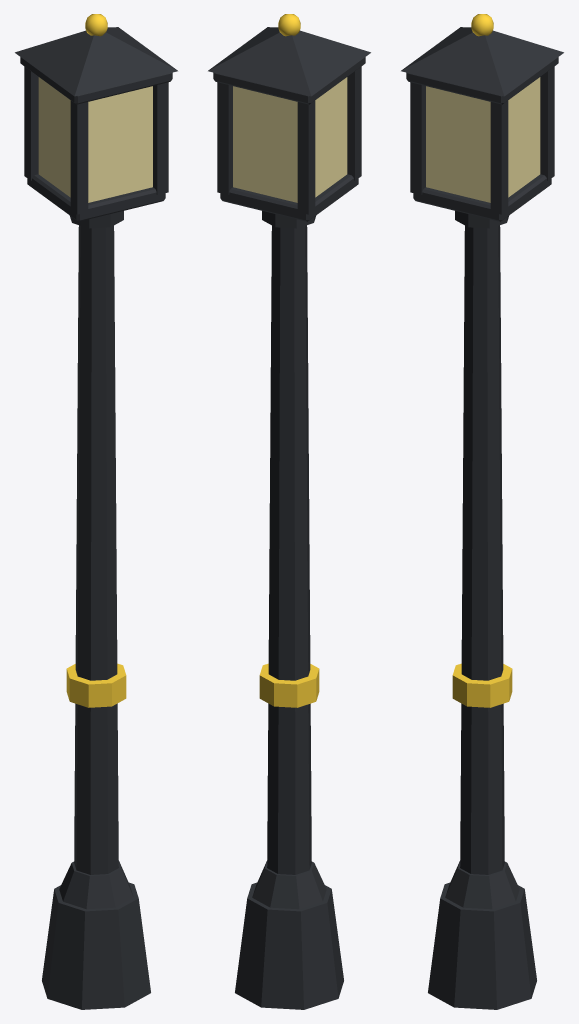
File: plaza_lamp.glb
3 views of the same model, side by side, from view 1: azimuth 30°, elevation 25°; view 2: azimuth 150°, elevation 25°; view 3: azimuth 330°, elevation 25° (orthographic).
Parts seen in each view (by area): view 1: LOD0; view 2: LOD0; view 3: LOD0.
Part boxes in pixels (x1,y1,x2,y2): LOD0: (15,14,177,1009); LOD0: (208,14,370,1009); LOD0: (401,14,563,1009).
Size of the model in its own units: 0.4667 by 4.17 by 0.4667.
Materials: 1 (1 with a texture image).
